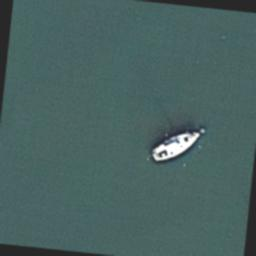boat: (147, 124, 202, 166)
